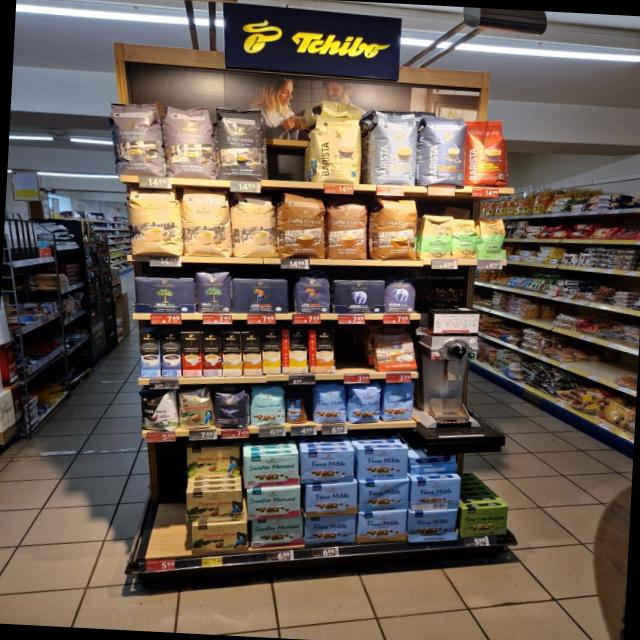AB Bohne: (383, 276, 421, 314)
AB Gemahlen: (418, 213, 459, 261), (332, 280, 387, 314)
Athiopien Bohne: (478, 218, 510, 261)
BM Bohne: (195, 270, 234, 314)
BM Gemahlen: (133, 276, 197, 313)
BW Bohne: (138, 390, 178, 433)
Barista CB: (309, 113, 366, 185)
Barista CC: (363, 111, 423, 186)
Barista Espresso: (417, 115, 468, 187)
Barista Kolumbien: (464, 118, 512, 187)
C Fino Bohne: (212, 391, 251, 429)
CC Mild: (126, 188, 184, 256), (181, 188, 233, 257), (232, 195, 279, 261)
CC Vollmundig: (373, 324, 418, 372)
CC Vollmundig 36 Pads: (278, 192, 331, 261), (367, 196, 421, 261), (324, 197, 375, 261)
Colombia BB Bohne: (177, 389, 215, 430)
Colombia BB Gemahlen: (193, 521, 248, 557), (184, 490, 242, 524), (186, 446, 242, 479)
Empty Shelf: (265, 109, 319, 181), (337, 324, 374, 373), (462, 473, 511, 507)
Espresso Aromatisch: (108, 101, 168, 179), (165, 103, 218, 182)
Espresso Kraftig: (215, 108, 268, 180)
FM Bohne: (312, 384, 349, 425), (347, 384, 383, 424), (382, 382, 416, 421)
FM Gemahlen: (356, 510, 410, 545), (405, 509, 460, 543), (301, 452, 357, 485), (305, 483, 359, 517), (409, 478, 462, 512), (305, 514, 358, 547), (357, 480, 410, 512), (357, 449, 411, 480)
FM Instant: (285, 391, 312, 424)
Herzhatfe Mundig: (459, 506, 509, 538)
LG Bohne: (292, 273, 332, 314)
LG Gemahlen: (231, 278, 291, 314)
SM Bohne: (249, 385, 286, 427)
SM Gemahlen: (246, 486, 302, 522), (243, 454, 300, 489), (251, 517, 304, 549)
Simo CCMild: (281, 329, 308, 373)
Simo CCVollmundig: (309, 330, 334, 373)
Simo CCVollmundig bigpack: (242, 332, 262, 376)
Simo Decaff: (262, 328, 282, 374), (222, 333, 242, 376)
Simo Es Brazil: (181, 332, 202, 377)
Simo Es Caramel: (202, 332, 222, 378)
Simo Es Kraft: (161, 331, 182, 377)
Simo Es Vanilla: (138, 333, 161, 378)
